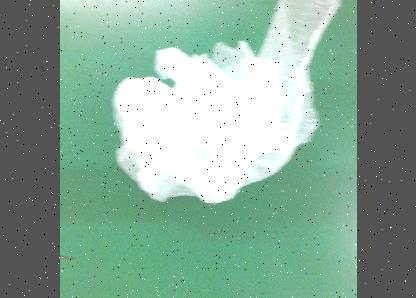Others: (111, 0, 340, 204)
